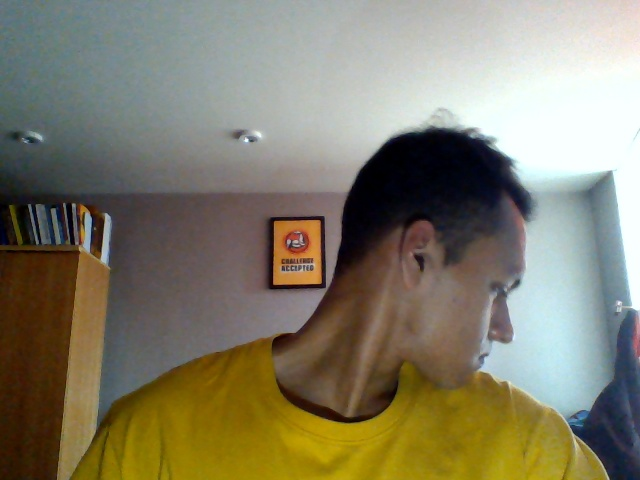no_mask: (424, 309, 529, 394)
